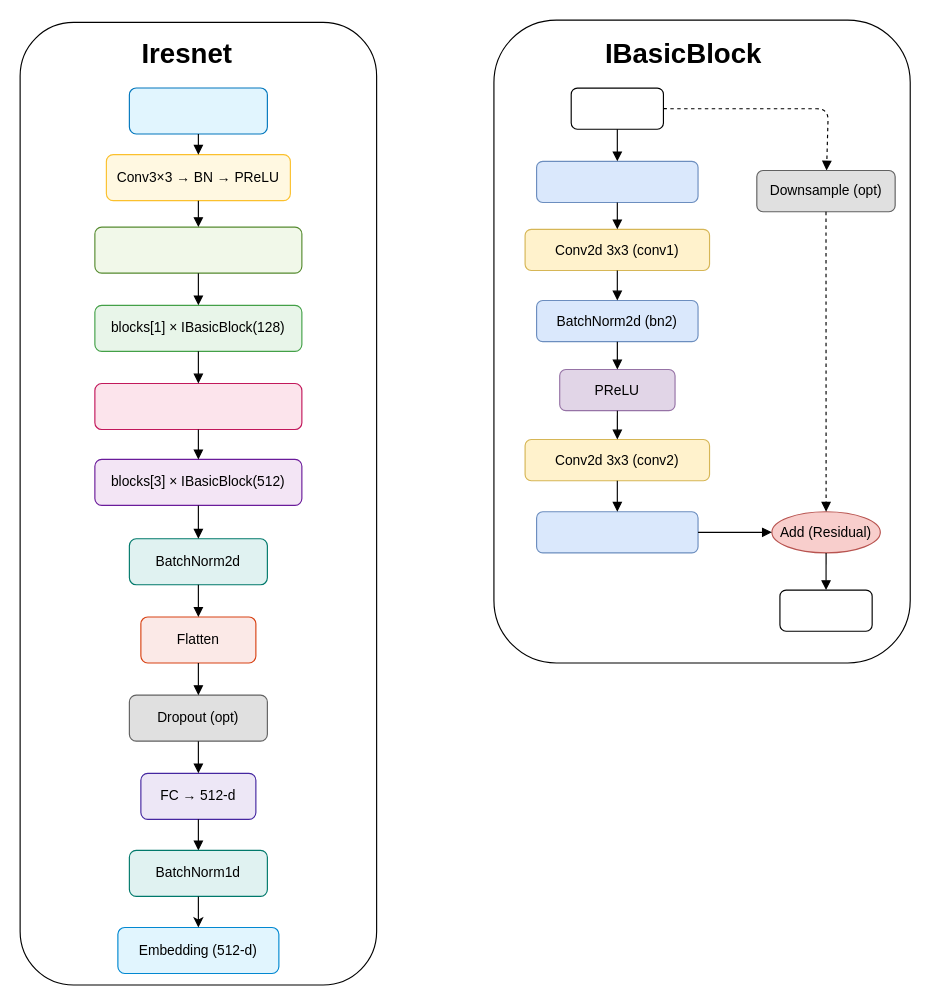
The diagram is 930 pixels wide and 1005 high, and some of its shapes have lost their labels. The centre of each missing label's shape, as x and y in pixels:
BatchNorm2d (bn1): (x=616, y=181)
BatchNorm2d (bn3): (x=616, y=532)
blocks[0] × IBasicBlock(64): (x=198, y=249)
blocks[2] × IBasicBlock(256): (x=198, y=406)
Input: (x=616, y=108)
Input (112×112×3): (x=197, y=110)
Output: (x=825, y=610)
